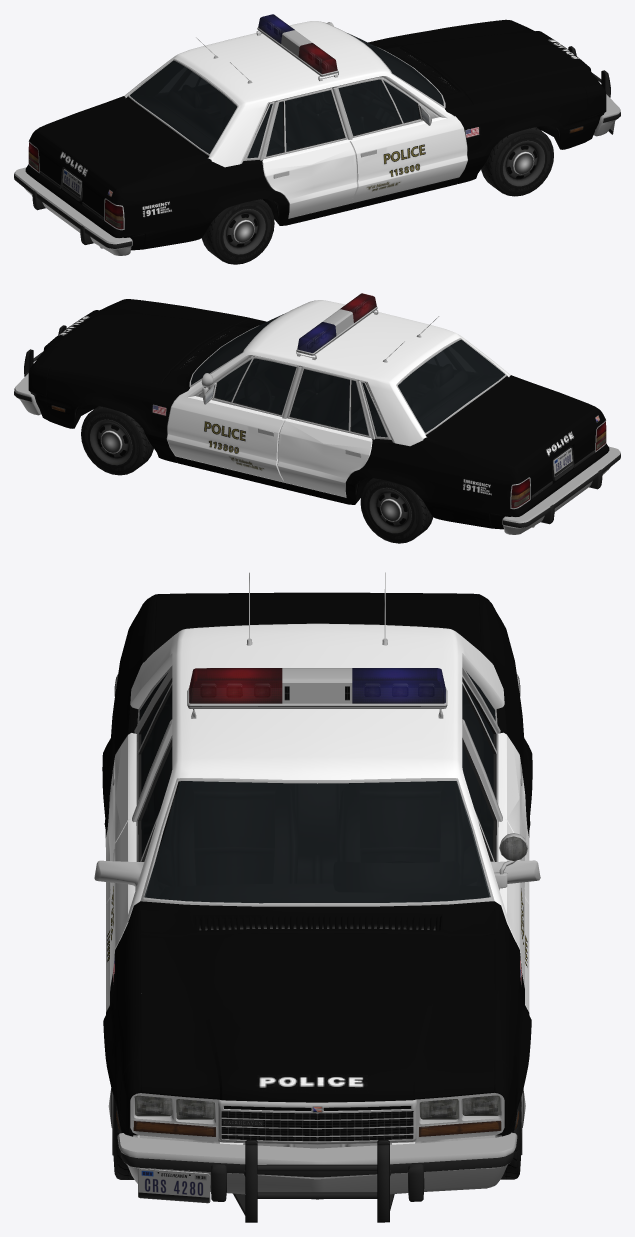
Rendered from cop.glb.
3 renders of one model, top to bottom at view 1: azimuth 30°, elevation 25°; view 2: azimuth 150°, elevation 25°; view 3: azimuth 270°, elevation 25°, orthographic. The views are drawn at different scales.
Visible parts, largest first — view 1: car_Body_Fairheaven_LT80_Bodymat, m_UCB_Lights_and_Glass_Transperent, m_UCB_Interior_Trim, m_UCB_BOTTOM_GT, wheel2, wheel0, car_Optics_UCB_Lights_and_Glass, m_Numberplates_Misk_U; view 2: car_Body_Fairheaven_LT80_Bodymat, m_UCB_Lights_and_Glass_Transperent, m_UCB_Interior_Trim, m_UCB_BOTTOM_GT, wheel3, wheel1, car_Optics_UCB_Lights_and_Glass; view 3: car_Body_Fairheaven_LT80_Bodymat, m_UCB_Lights_and_Glass_Transperent, m_UCB_BOTTOM_GT, m_UCB_Interior_Trim, car_Optics_UCB_Lights_and_Glass, m_Numberplates_Misk_U.
Boxes of the visible parts, x1=… form: car_Body_Fairheaven_LT80_Bodymat: x1=25, y1=19, x2=606, y2=250; m_UCB_Lights_and_Glass_Transperent: x1=28, y1=14, x2=443, y2=227; m_UCB_Interior_Trim: x1=130, y1=45, x2=443, y2=157; m_UCB_BOTTOM_GT: x1=14, y1=22, x2=620, y2=255; wheel2: x1=481, y1=127, x2=553, y2=196; wheel0: x1=201, y1=199, x2=274, y2=264; car_Optics_UCB_Lights_and_Glass: x1=28, y1=145, x2=123, y2=229; m_Numberplates_Misk_U: x1=62, y1=121, x2=615, y2=198; car_Body_Fairheaven_LT80_Bodymat: x1=28, y1=299, x2=609, y2=529; m_UCB_Lights_and_Glass_Transperent: x1=191, y1=293, x2=606, y2=506; m_UCB_Interior_Trim: x1=192, y1=324, x2=504, y2=436; m_UCB_BOTTOM_GT: x1=14, y1=301, x2=620, y2=534; wheel3: x1=81, y1=406, x2=153, y2=475; wheel1: x1=360, y1=478, x2=433, y2=543; car_Optics_UCB_Lights_and_Glass: x1=511, y1=424, x2=606, y2=508; car_Body_Fairheaven_LT80_Bodymat: x1=102, y1=592, x2=532, y2=1148; m_UCB_Lights_and_Glass_Transperent: x1=133, y1=668, x2=501, y2=1136; m_UCB_BOTTOM_GT: x1=94, y1=572, x2=540, y2=1222; m_UCB_Interior_Trim: x1=140, y1=676, x2=494, y2=903; car_Optics_UCB_Lights_and_Glass: x1=135, y1=1096, x2=499, y2=1118; m_Numberplates_Misk_U: x1=138, y1=1168, x2=210, y2=1203.
Size of the model in its own units: 5.07 by 1.57 by 1.83.
Materials: 8 (8 with a texture image).
